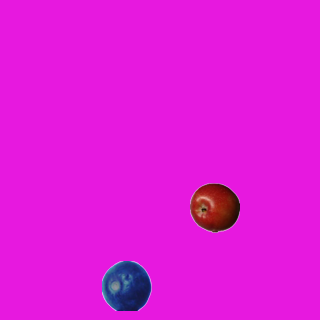Apple Braeburn: (189, 182, 239, 232)
Huckleberry: (101, 260, 151, 310)
